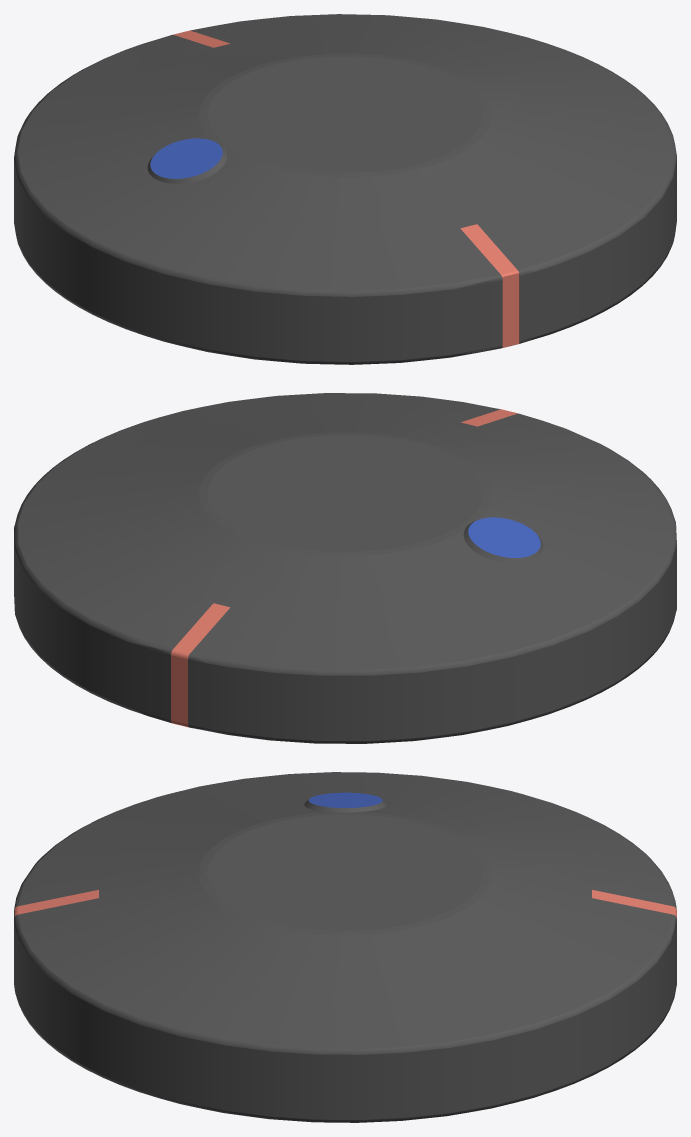
The model's file is here.dae.
3 renders of one model, top to bottom at view 1: azimuth 30°, elevation 25°; view 2: azimuth 150°, elevation 25°; view 3: azimuth 270°, elevation 25°, orthographic.
Visible parts, largest first — view 1: Component1_001, Component2_001, Component3_001; view 2: Component1_001, Component2_001, Component5_001; view 3: Component1_001, Component2_001, Component5_001, Component3_001.
Part boxes in pixels (<box>): Component1_001: <box>14,14,676,364</box>; Component2_001: <box>147,138,227,183</box>; Component3_001: <box>460,224,519,347</box>; Component1_001: <box>14,393,676,743</box>; Component2_001: <box>463,517,543,562</box>; Component5_001: <box>171,603,230,727</box>; Component1_001: <box>14,772,676,1122</box>; Component2_001: <box>304,792,386,812</box>; Component5_001: <box>592,890,676,917</box>; Component3_001: <box>15,890,98,915</box>.
Bounding box in the file's own units: 0.0672 × 0.0672 × 0.017.
